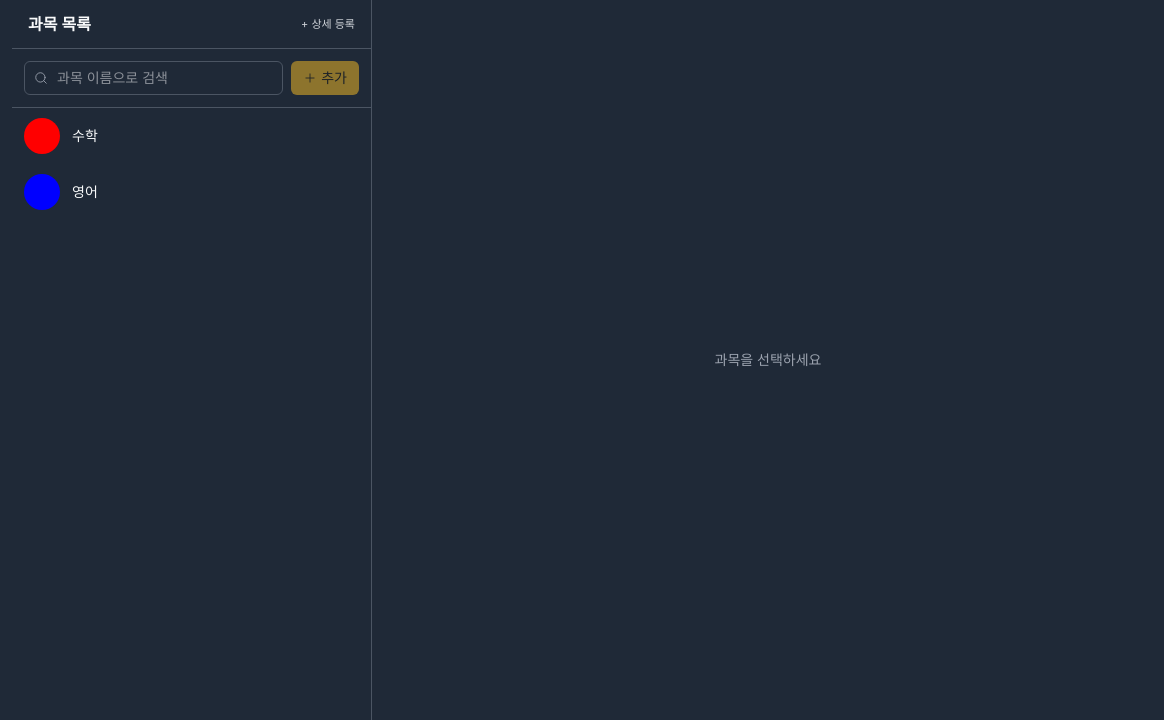
SubjectsPageLayout › 검색어 입력 시 목록이 필터링된다 (통합 input)
Type "수" into the field with placeholder "과목 이름으로 검색" at [154, 78], box x1=24 y1=61 x2=283 y2=95
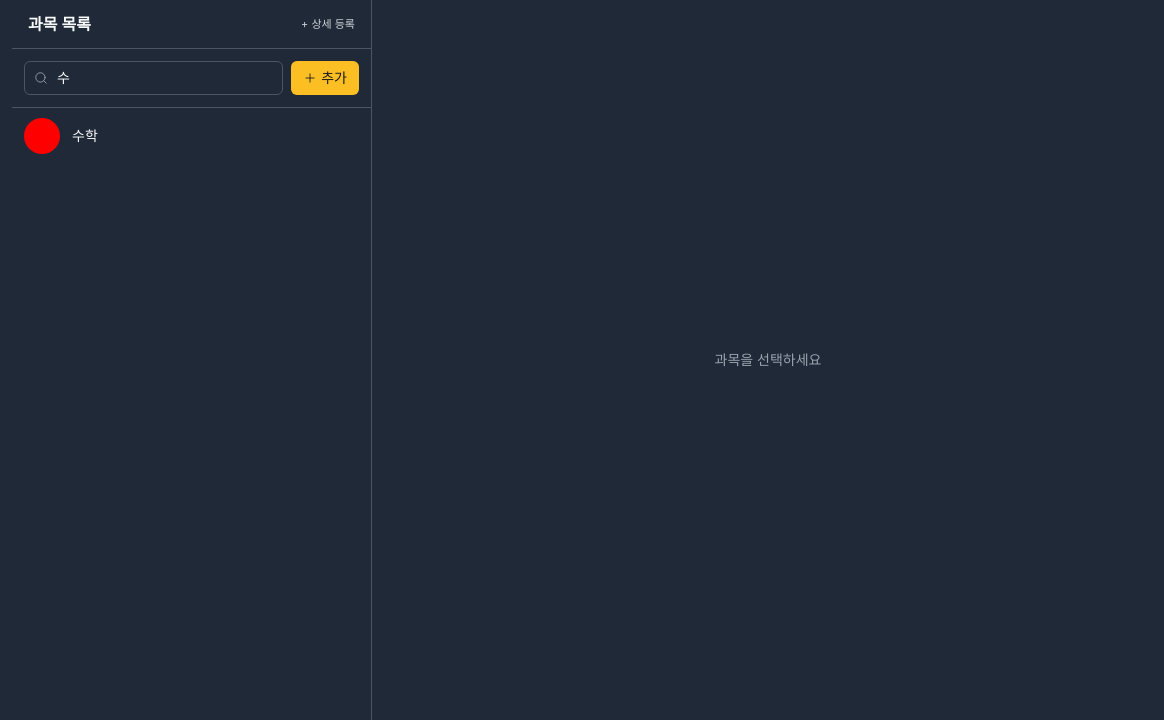
Expected: the text "수학" is shown, x1=72 y1=127 x2=98 y2=144
Now the button "영어" is gone
